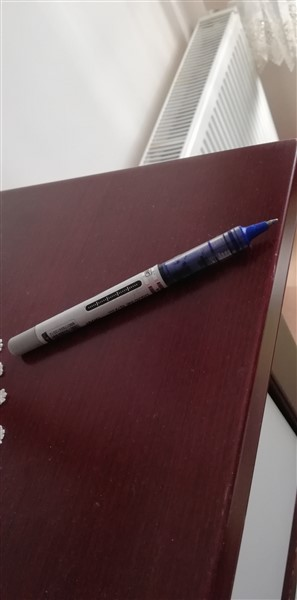pilot kalem: (6, 211, 285, 363)
